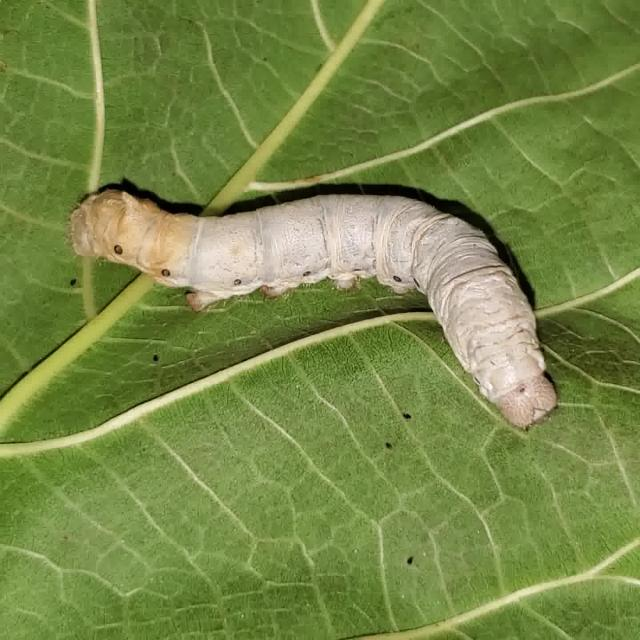Grasserie: (54, 120, 587, 457)
